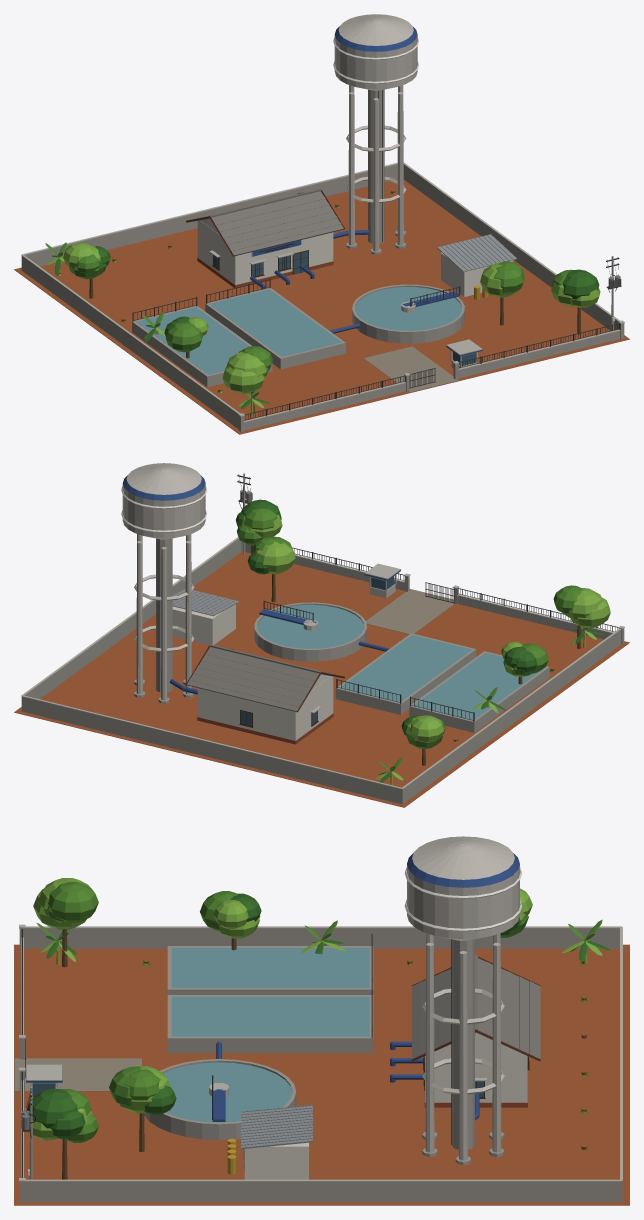
Rendered from water_works.glb.
3 renders of one model, top to bottom at view 1: azimuth 30°, elevation 25°; view 2: azimuth 150°, elevation 25°; view 3: azimuth 270°, elevation 25°, orthographic. The views are drawn at different scales.
Parts seen in each view (by area): view 1: body, windows; view 2: body; view 3: body.
Boxes of the visible parts, left/top/right/bottom form: body: left=14, top=14, right=629, bottom=434; windows: left=213, top=251, right=475, bottom=365; body: left=14, top=463, right=629, bottom=807; body: left=14, top=836, right=629, bottom=1205.
Bounding box in the file's own units: 47.9 × 26.14 × 47.9.
